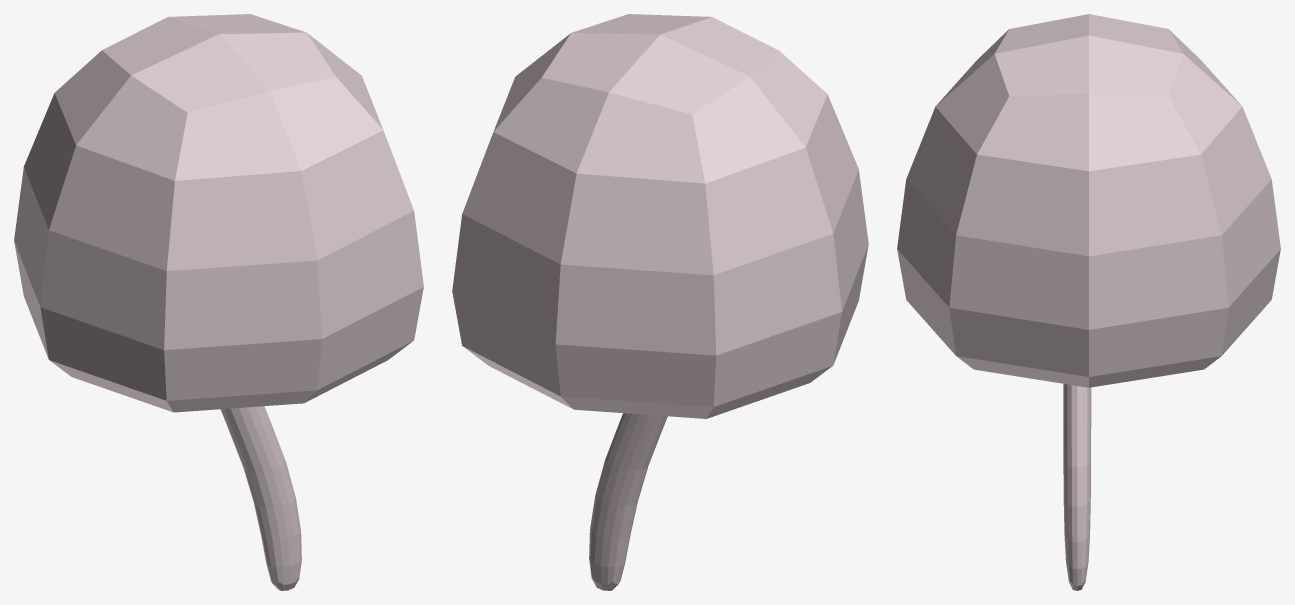
Rendered from champignon2.fbx.
3 views of the same model, side by side, from view 1: azimuth 30°, elevation 25°; view 2: azimuth 150°, elevation 25°; view 3: azimuth 270°, elevation 25° (orthographic). The views are drawn at different scales.
Parts seen in each view (by area): view 1: Champignon2; view 2: Champignon2; view 3: Champignon2.
Part boxes in pixels (x1=…): Champignon2: x1=14, y1=14, x2=423, y2=590; Champignon2: x1=452, y1=14, x2=868, y2=590; Champignon2: x1=897, y1=14, x2=1280, y2=590.
Bounding box in the file's own units: 1.29 × 1.95 × 1.29.
